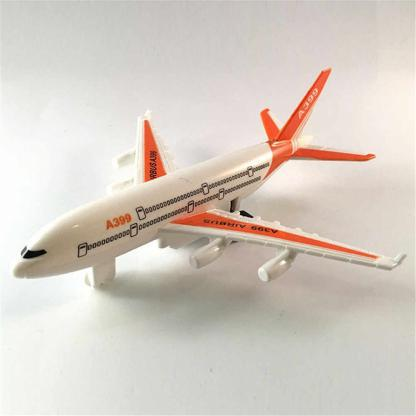CIV_Plane: (9, 63, 410, 288)
